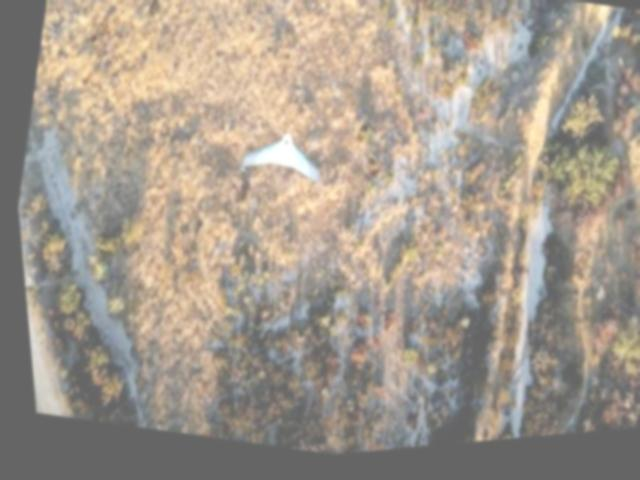iha: (232, 122, 328, 197)
